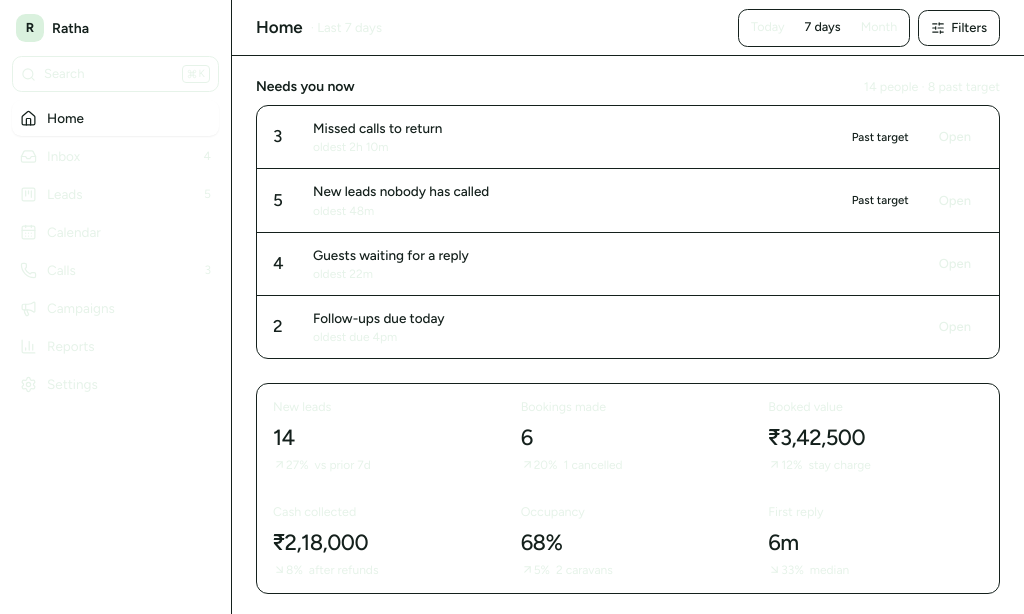
Scenario: design lab concepts › switches screens from the concept's own navigation
What coordinates should you click on to do the following:
click the button "Inbox 4"
I would click on:
 (116, 156)
Its box is [12,138,219,174].
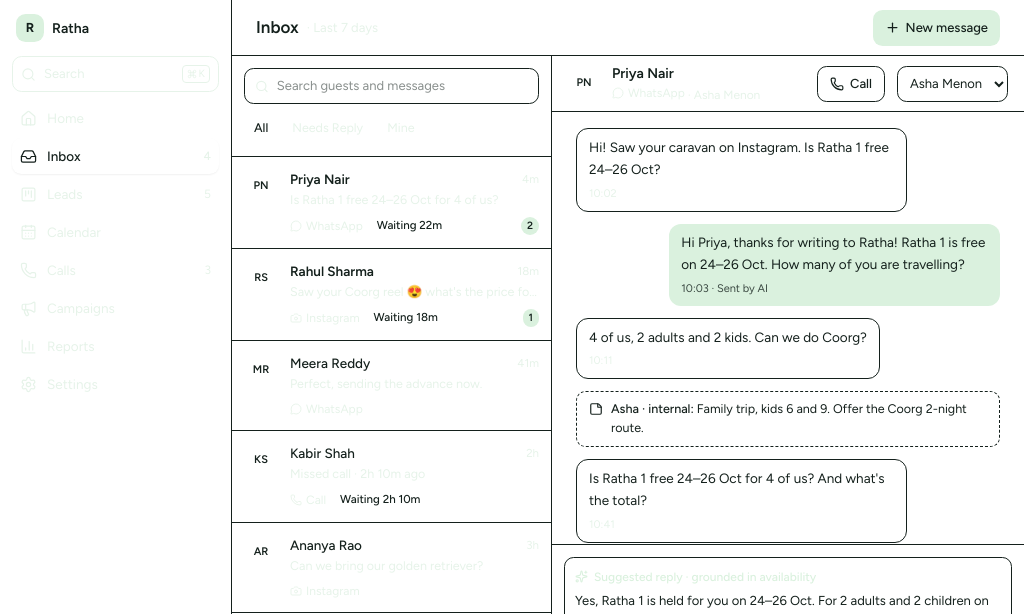
Now the 2nd text "Priya Nair" is shown, box [290,169,350,189]
